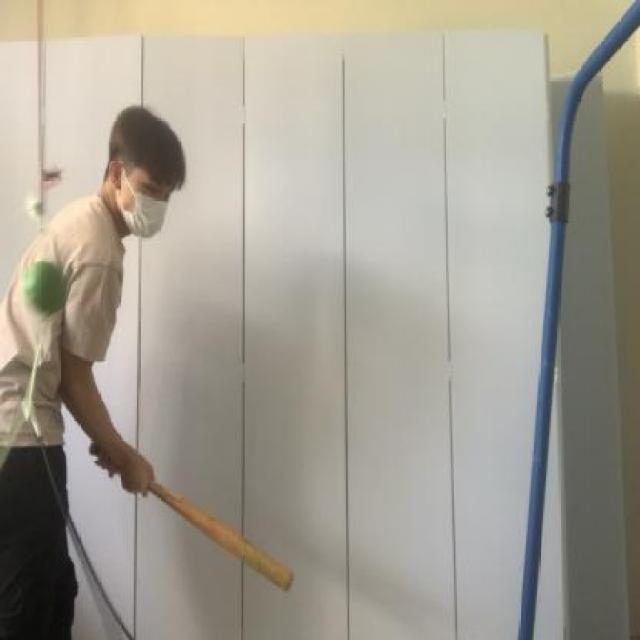baseball: (21, 254, 70, 320)
